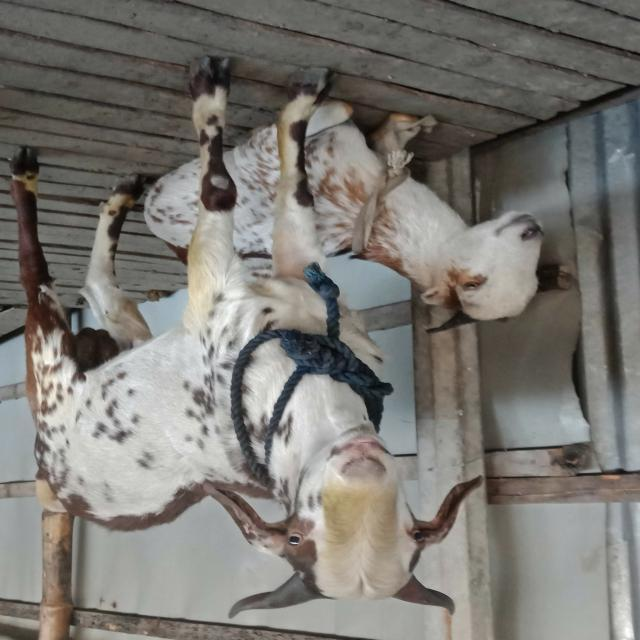Goat: (10, 59, 486, 620), (141, 100, 550, 335)
